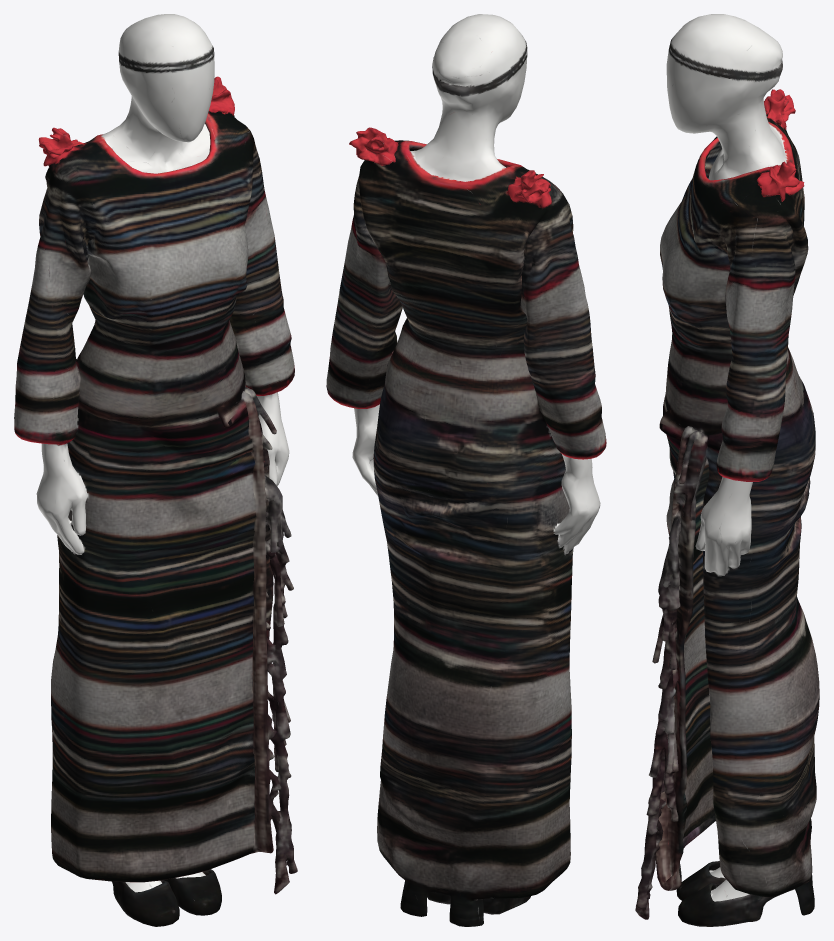
File: Gie_trieng_nu_00001.glb
The picture shows the model from 3 angles, left to right: view 1: azimuth 30°, elevation 25°; view 2: azimuth 150°, elevation 25°; view 3: azimuth 270°, elevation 25°; orthographic projection.
Size of the model in its own units: 0.2882 by 0.8893 by 0.1673.
Materials: 1 (1 with a texture image).
